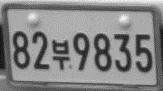2: (31, 30, 50, 69)
3: (113, 32, 132, 72)
5: (134, 33, 153, 72)
8: (93, 32, 112, 71), (12, 30, 30, 69)
9: (72, 31, 90, 71)
부: (51, 38, 70, 70)
